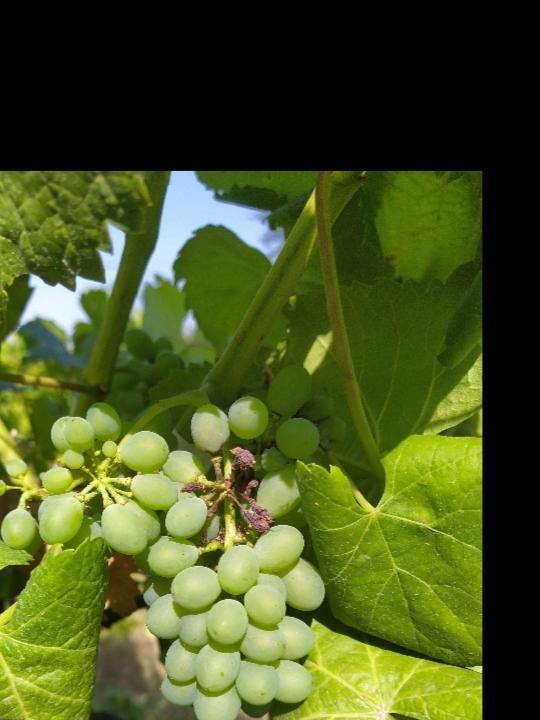grape: (0, 362, 349, 720)
